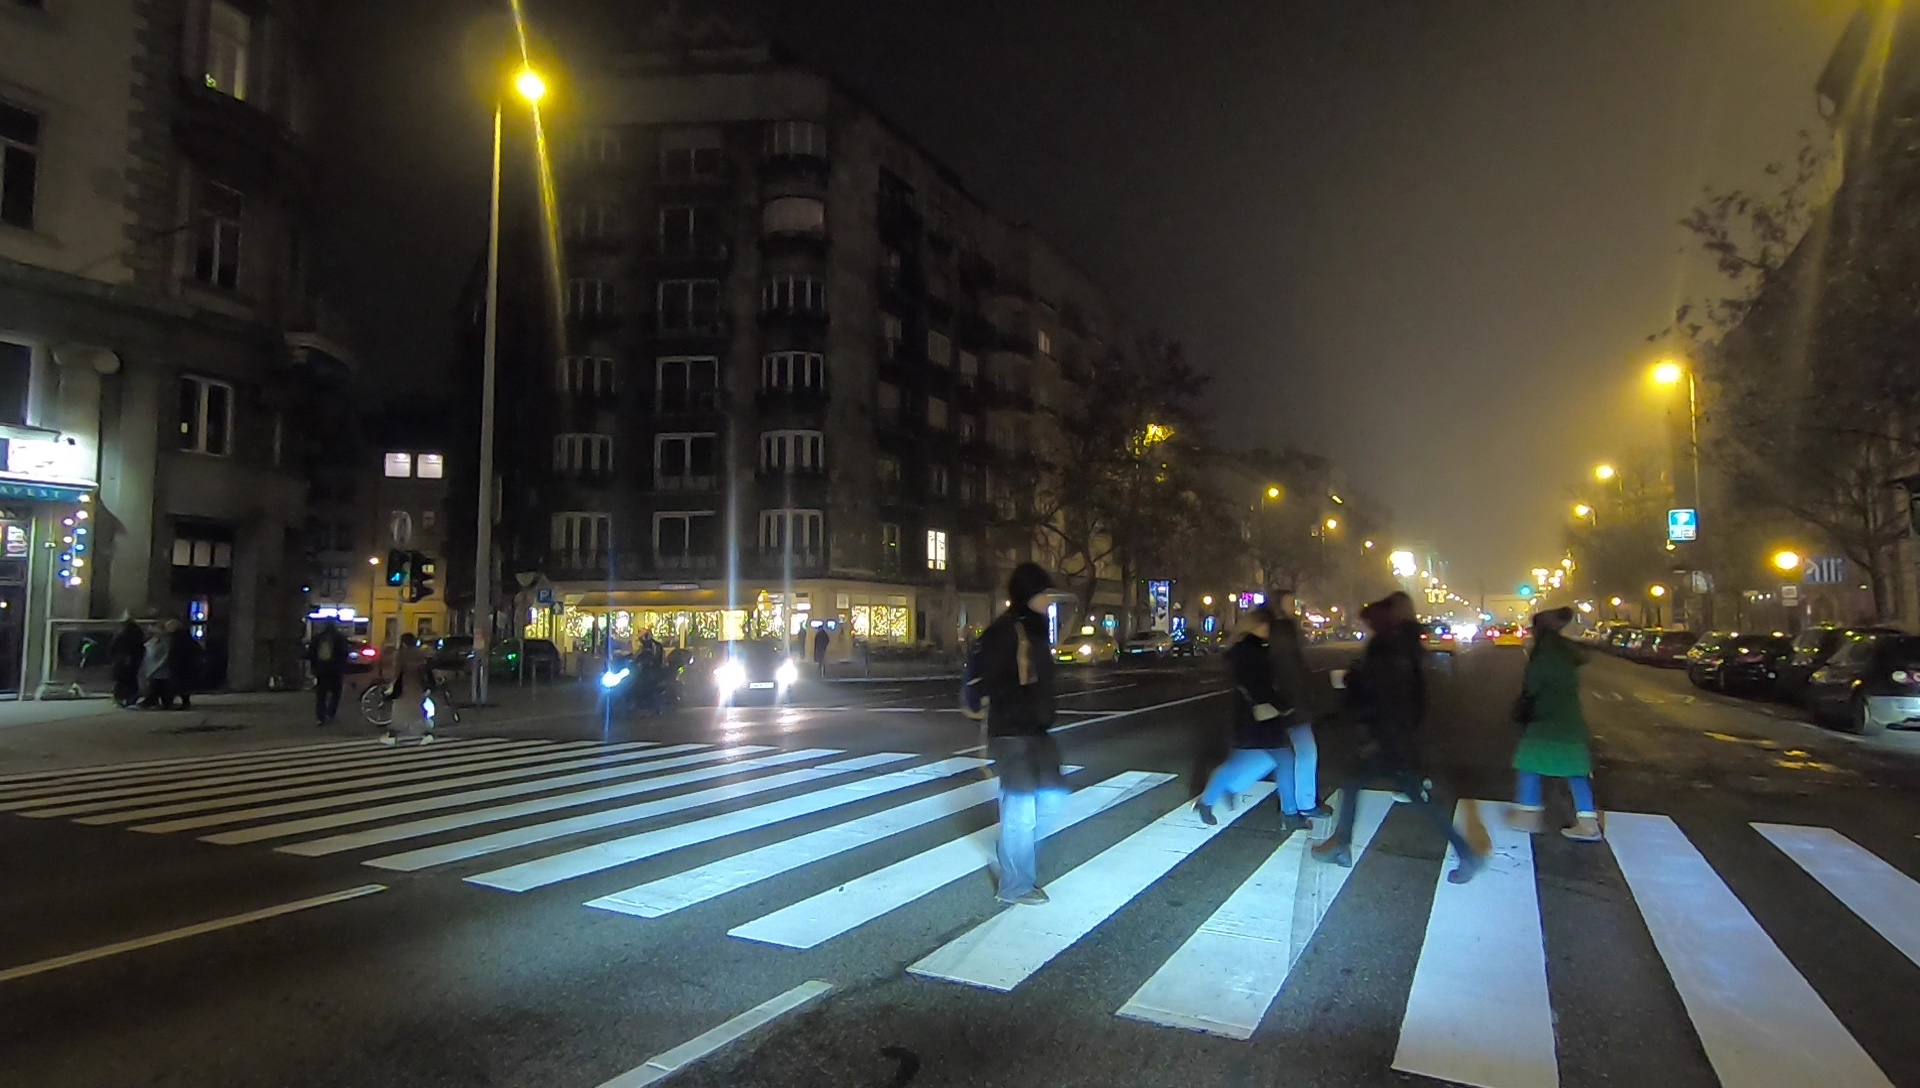person: (1319, 589, 1484, 891), (1197, 576, 1338, 852), (969, 556, 1065, 910), (1508, 602, 1608, 847), (380, 632, 441, 754), (306, 621, 349, 732), (158, 615, 197, 706), (114, 617, 143, 713), (814, 624, 828, 676)
